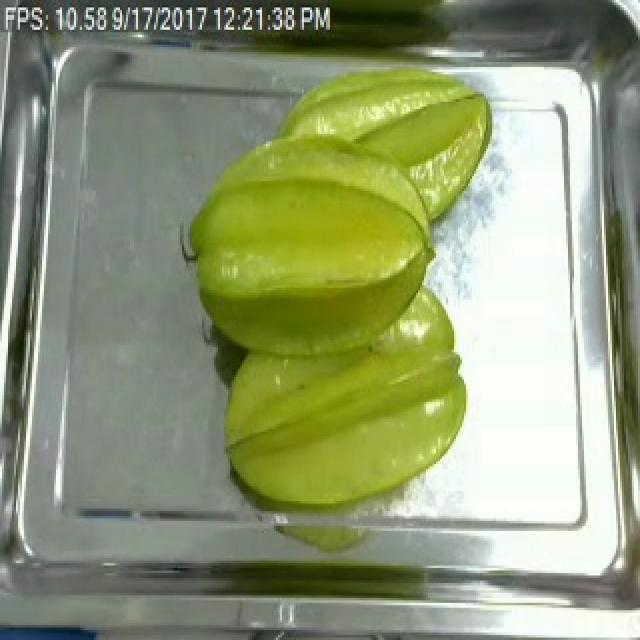fruit: (178, 102, 446, 337), (210, 310, 478, 519)
